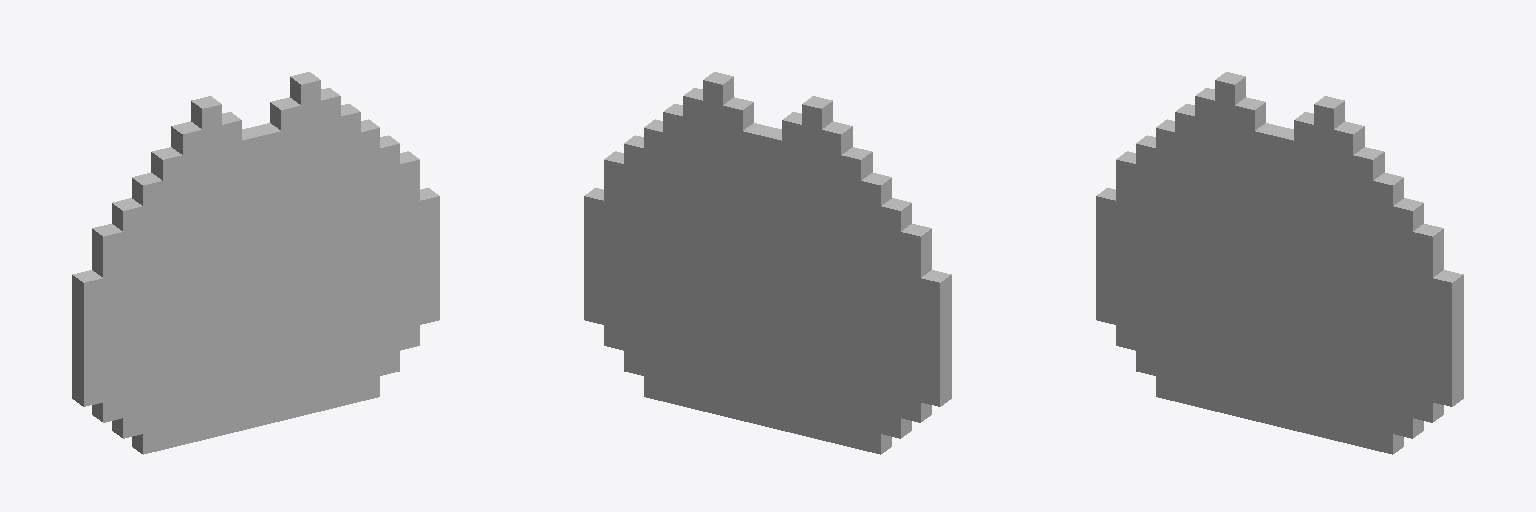
File: PigHead-7-PigHead.obj
The picture shows the model from 3 angles: view 1: azimuth 30°, elevation 25°; view 2: azimuth 150°, elevation 25°; view 3: azimuth 330°, elevation 25°; orthographic projection.
Parts seen in each view (by area): view 1: PigHead; view 2: PigHead; view 3: PigHead.
Part boxes in pixels (x1,y1,x2,y2): PigHead: (72,72,439,454); PigHead: (584,72,951,454); PigHead: (1096,72,1463,454).
Bounding box in the file's own units: 1.8 × 1.6 × 0.1.